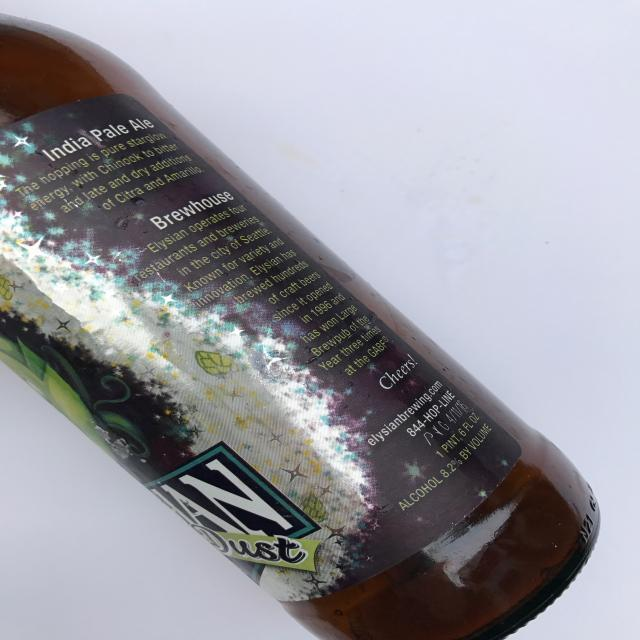glass: (1, 21, 601, 640)
